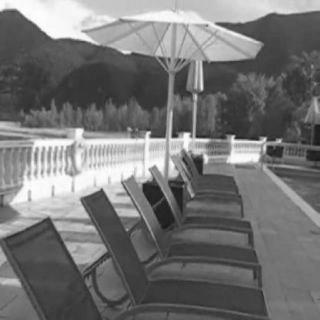other: (33, 140, 153, 172)
